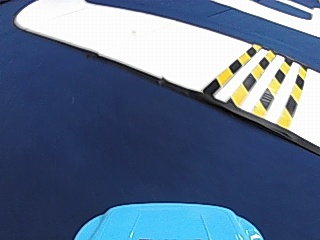bump: (202, 44, 304, 120)
